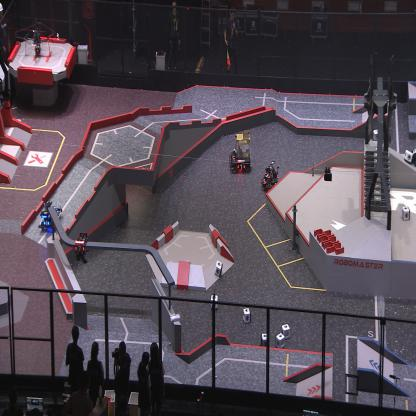car: (227, 129, 253, 174), (38, 200, 62, 232), (260, 160, 280, 192)
